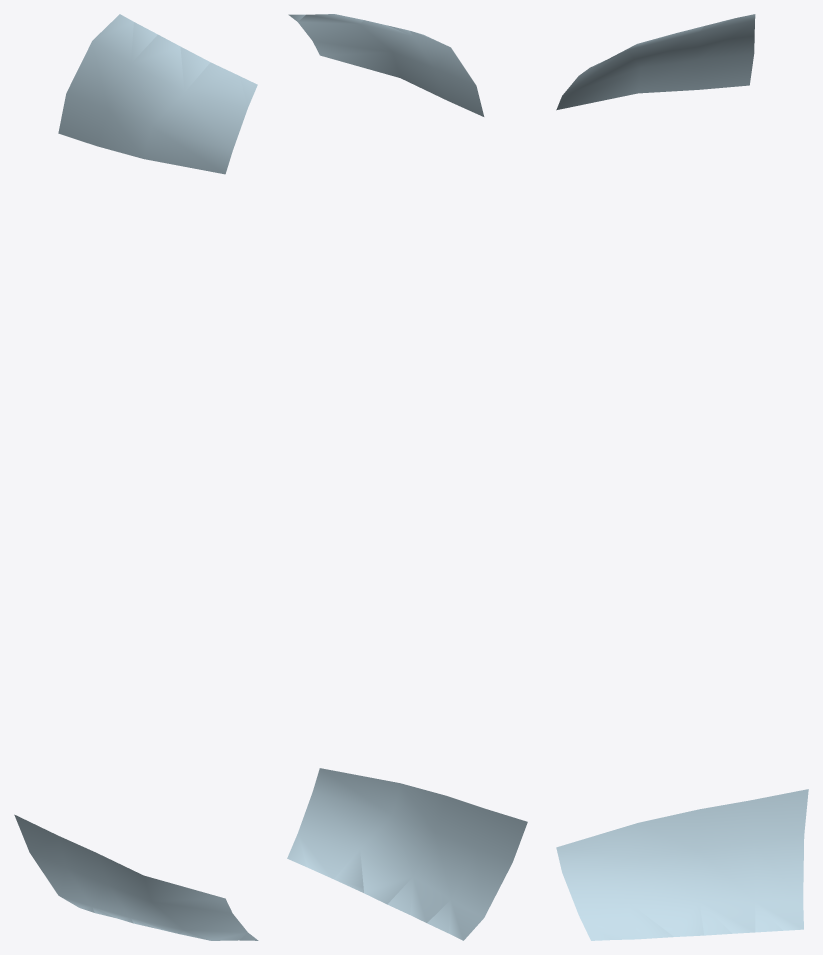
Rendered from backLightsReverse.glb.
3 renders of one model, left to right at view 1: azimuth 30°, elevation 25°; view 2: azimuth 210°, elevation 25°; view 3: azimuth 270°, elevation 25°, orthographic. The views are drawn at different scales.
Parts seen in each view (by area): view 1: shadeWhite_002; view 2: shadeWhite_002; view 3: shadeWhite_002.
Boxes of the visible parts, <box> form: shadeWhite_002: <box>14,14,258,940</box>; shadeWhite_002: <box>287,14,527,940</box>; shadeWhite_002: <box>556,14,808,940</box>.
Size of the model in its own units: 2.19 by 13.76 by 3.41.
